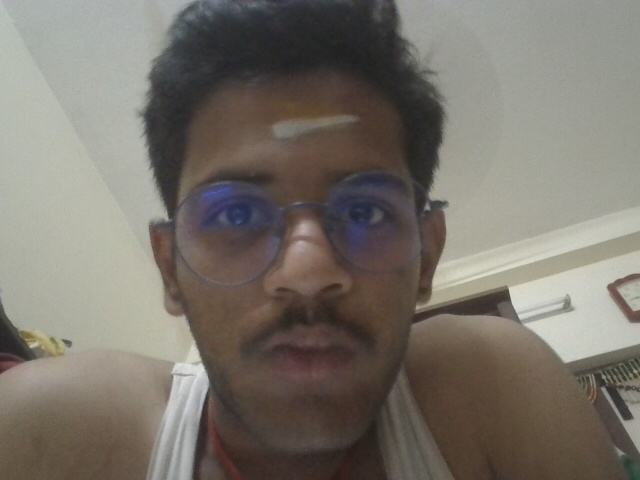real: (136, 82, 472, 418)
